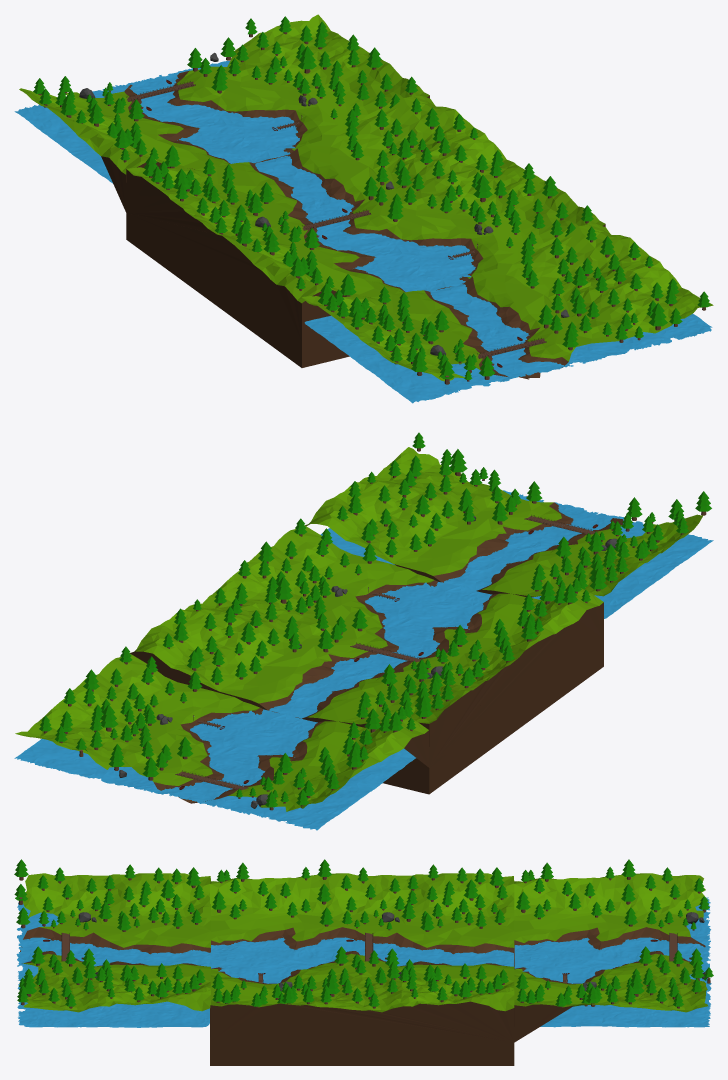
Rendered from gara2.fbx.
3 renders of one model, top to bottom at view 1: azimuth 30°, elevation 25°; view 2: azimuth 150°, elevation 25°; view 3: azimuth 270°, elevation 25°, orthographic. The views are drawn at different scales.
Visible parts, largest first — view 1: Trees.005; view 2: Trees.005; view 3: Trees.005.
Boxes of the visible parts, x1,y1,x2,y2 form: Trees.005: (14, 14, 713, 403); Trees.005: (14, 432, 713, 830); Trees.005: (14, 859, 713, 1065).
Size of the model in its own units: 1200 by 357 by 2761.
